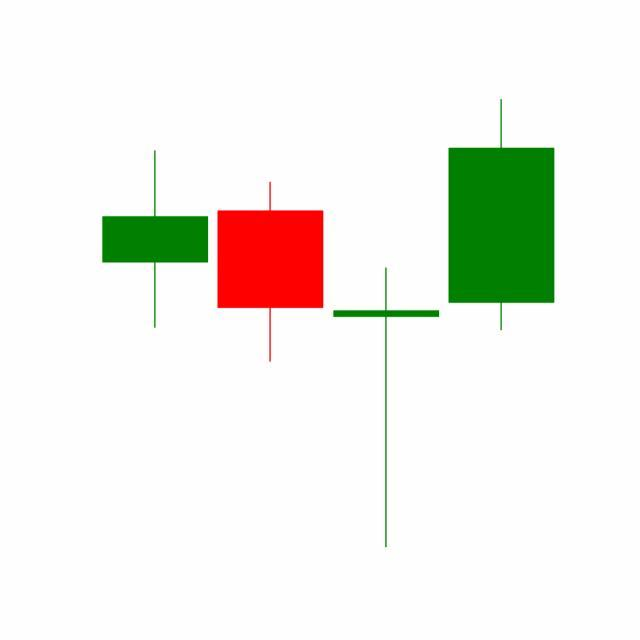Morning Doji Star: (211, 99, 555, 549)
